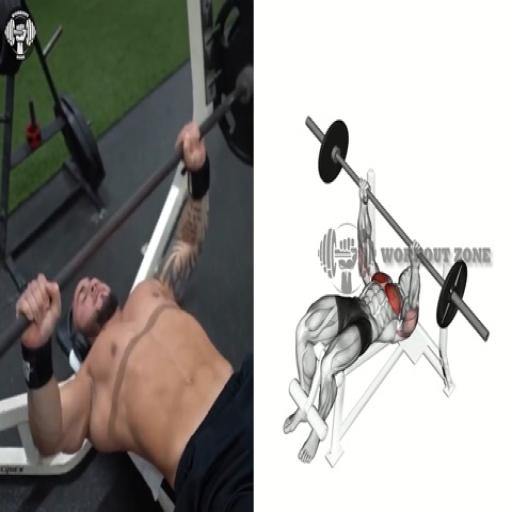exercise: (13, 120, 253, 510), (280, 175, 424, 466)
